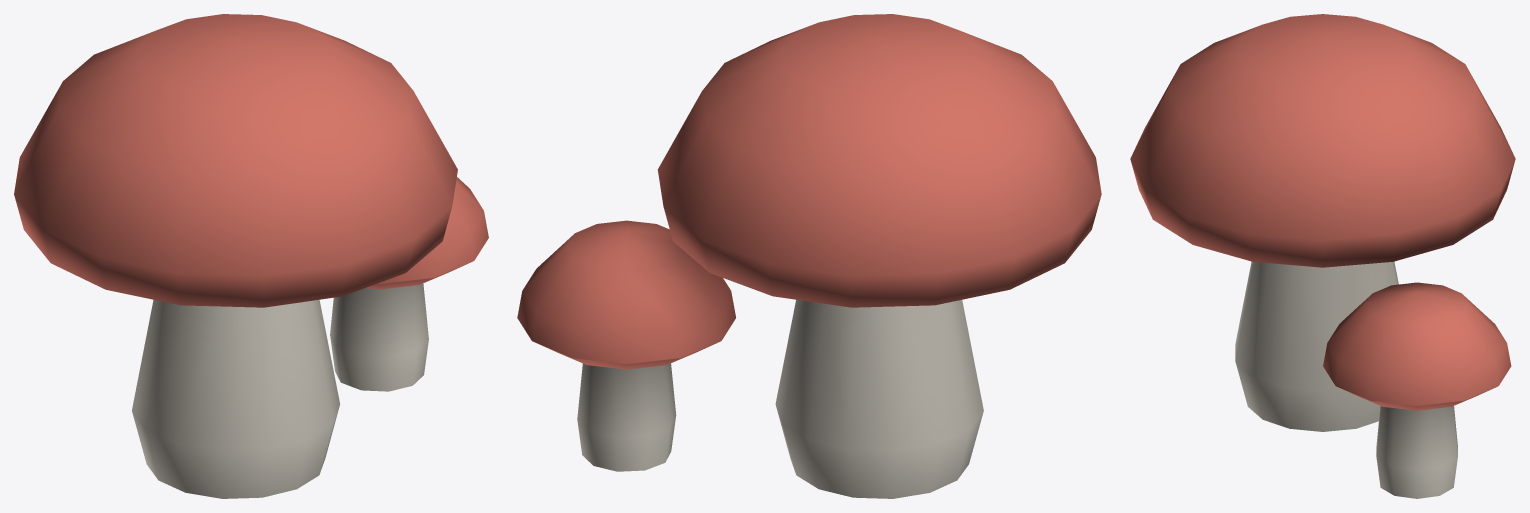
The model's file is forage_mushroom.glb.
3 views of the same model, side by side, from view 1: azimuth 30°, elevation 25°; view 2: azimuth 150°, elevation 25°; view 3: azimuth 270°, elevation 25° (orthographic). The views are drawn at different scales.
Visible parts, largest first — view 1: PART; view 2: PART; view 3: PART.
Part boxes in pixels (x1,y1,x2,y2): PART: (14, 14, 488, 498); PART: (517, 14, 1101, 498); PART: (1130, 14, 1515, 498).
Size of the model in its own units: 0.113 by 0.093 by 0.09.
